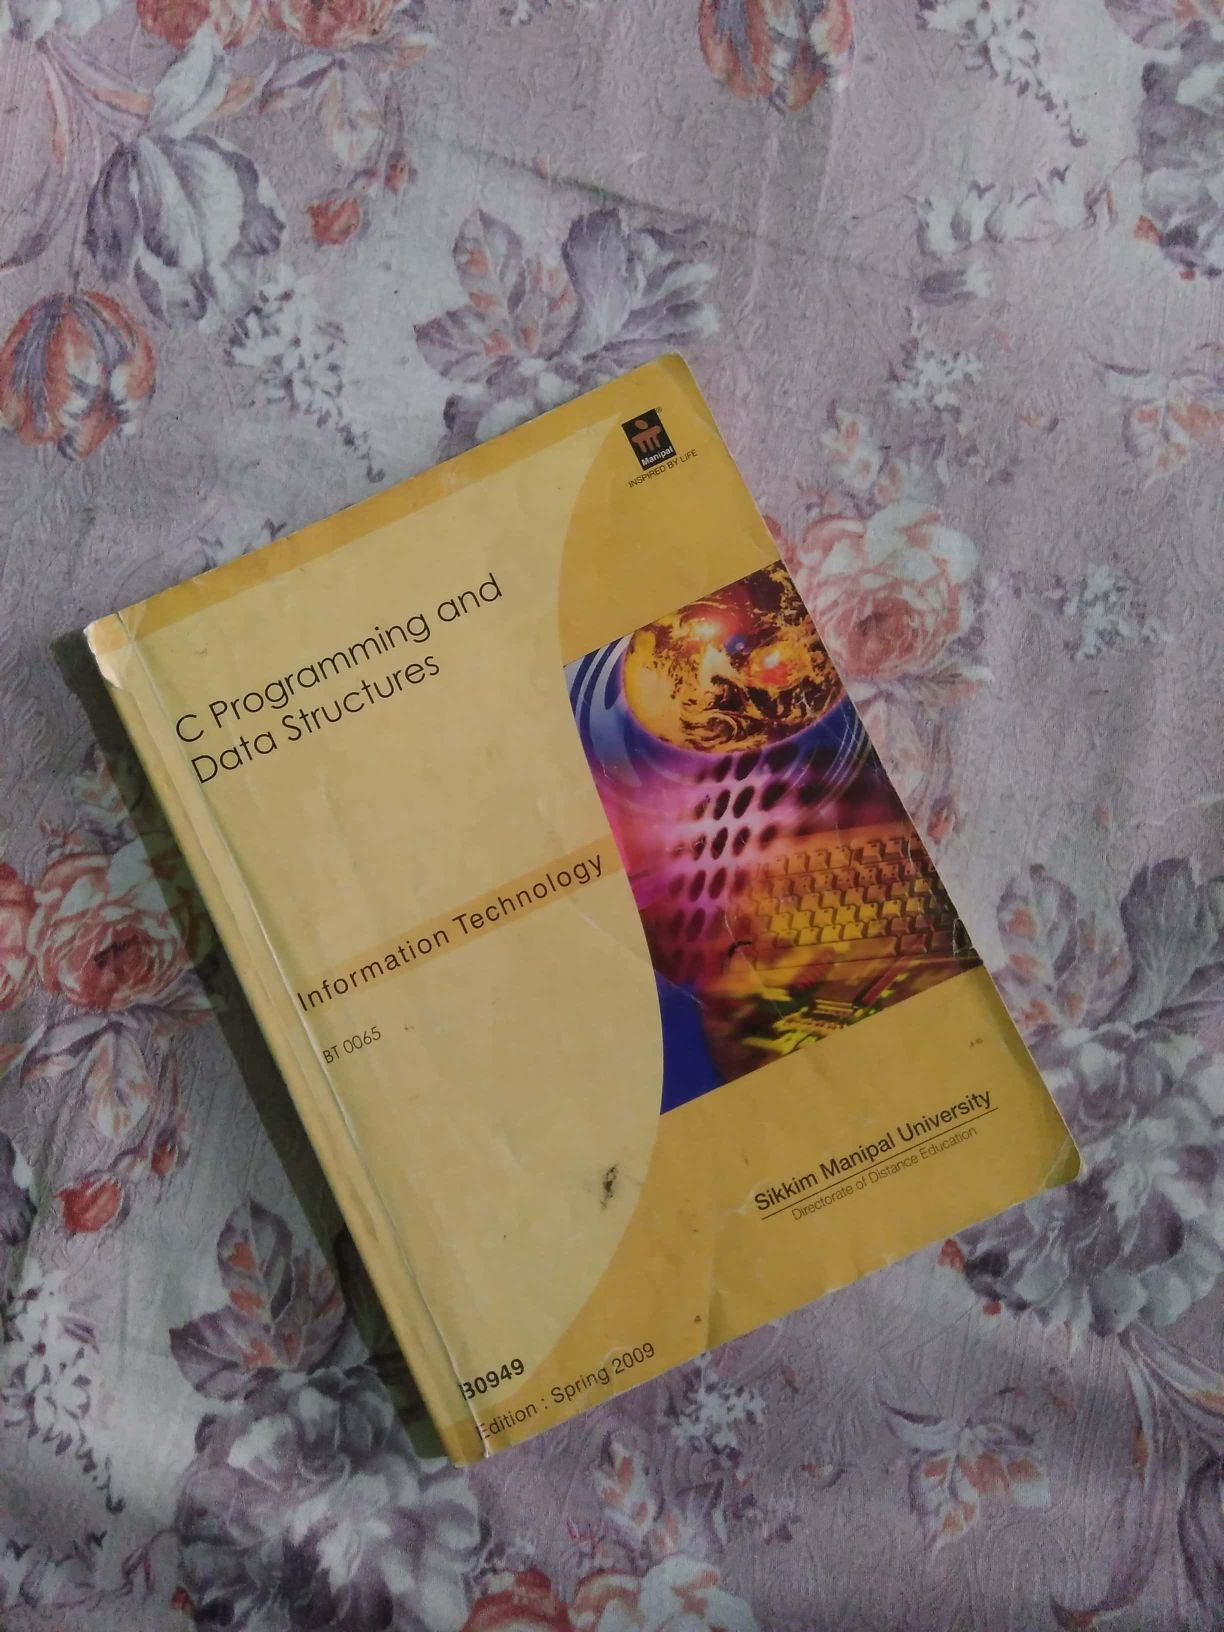clang: (100, 404, 1086, 1437)
